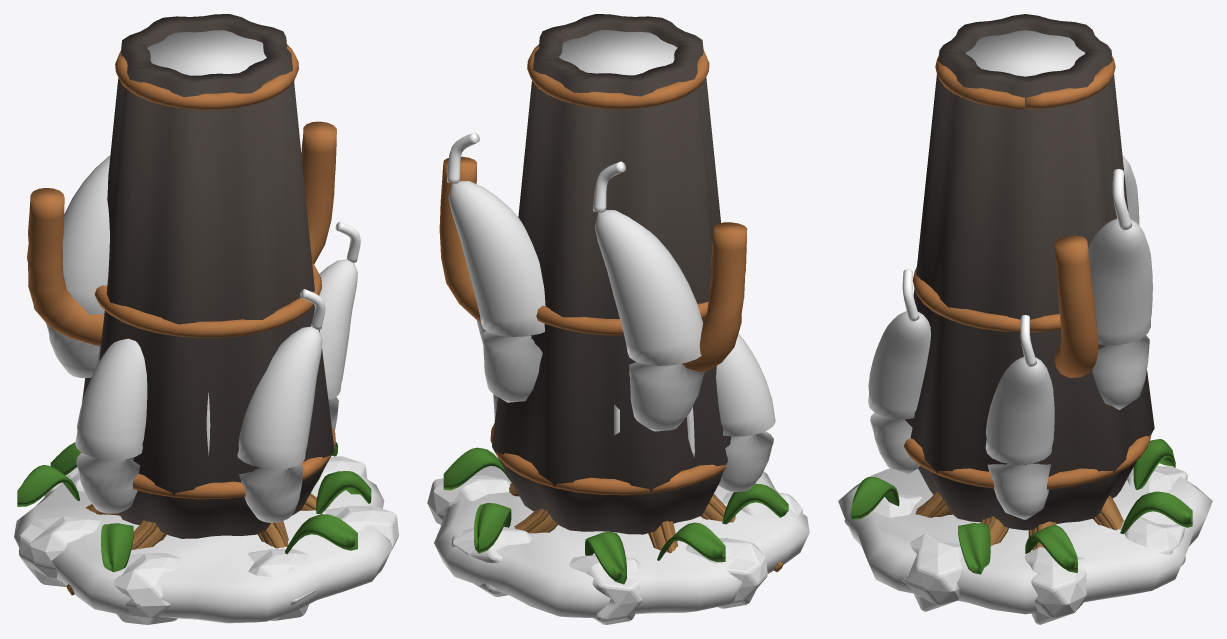
File: chili-4.fbx
The picture shows the model from 3 angles, left to right: view 1: azimuth 30°, elevation 25°; view 2: azimuth 150°, elevation 25°; view 3: azimuth 270°, elevation 25°; orthographic projection. The views are drawn at different scales.
Visible parts, largest first — view 1: Turret_Metal, Pods_PortalPeel, EarthBed, chili-4_Stone, chili-4_PortalBamboo, Core_Glow, chili-4_Bark, Pods_PortalBamboo; view 2: Turret_Metal, Pods_PortalPeel, EarthBed, chili-4_Stone, chili-4_PortalBamboo, Core_Glow, chili-4_Bark, Pods_PortalBamboo; view 3: Turret_Metal, Pods_PortalPeel, EarthBed, chili-4_Stone, chili-4_PortalBamboo, Core_Glow, Pods_PortalBamboo, chili-4_Bark.
Part boxes in pixels (left/top/right/bottom): Turret_Metal: left=27, top=14, right=336, bottom=538; Pods_PortalPeel: left=46, top=156, right=357, bottom=522; EarthBed: left=14, top=471, right=392, bottom=623; chili-4_Stone: left=19, top=456, right=398, bottom=624; chili-4_PortalBamboo: left=17, top=442, right=371, bottom=572; Core_Glow: left=96, top=30, right=266, bottom=460; chili-4_Bark: left=66, top=493, right=328, bottom=595; Pods_PortalBamboo: left=300, top=222, right=360, bottom=330; Turret_Metal: left=439, top=14, right=747, bottom=534; Pods_PortalPeel: left=448, top=181, right=775, bottom=492; EarthBed: left=434, top=466, right=809, bottom=617; chili-4_Stone: left=427, top=475, right=803, bottom=624; chili-4_PortalBamboo: left=443, top=447, right=788, bottom=584; Core_Glow: left=559, top=30, right=694, bottom=457; chili-4_Bark: left=509, top=483, right=783, bottom=572; Pods_PortalBamboo: left=447, top=132, right=625, bottom=212; Turret_Metal: left=904, top=14, right=1154, bottom=530; Pods_PortalPeel: left=868, top=155, right=1152, bottom=519; EarthBed: left=838, top=466, right=1212, bottom=614; chili-4_Stone: left=844, top=466, right=1187, bottom=624; chili-4_PortalBamboo: left=850, top=439, right=1192, bottom=574; Core_Glow: left=965, top=30, right=1085, bottom=76; Pods_PortalBamboo: left=902, top=169, right=1132, bottom=366; chili-4_Bark: left=915, top=491, right=1123, bottom=550.
Size of the model in its own units: 83.98 by 123 by 82.7.
